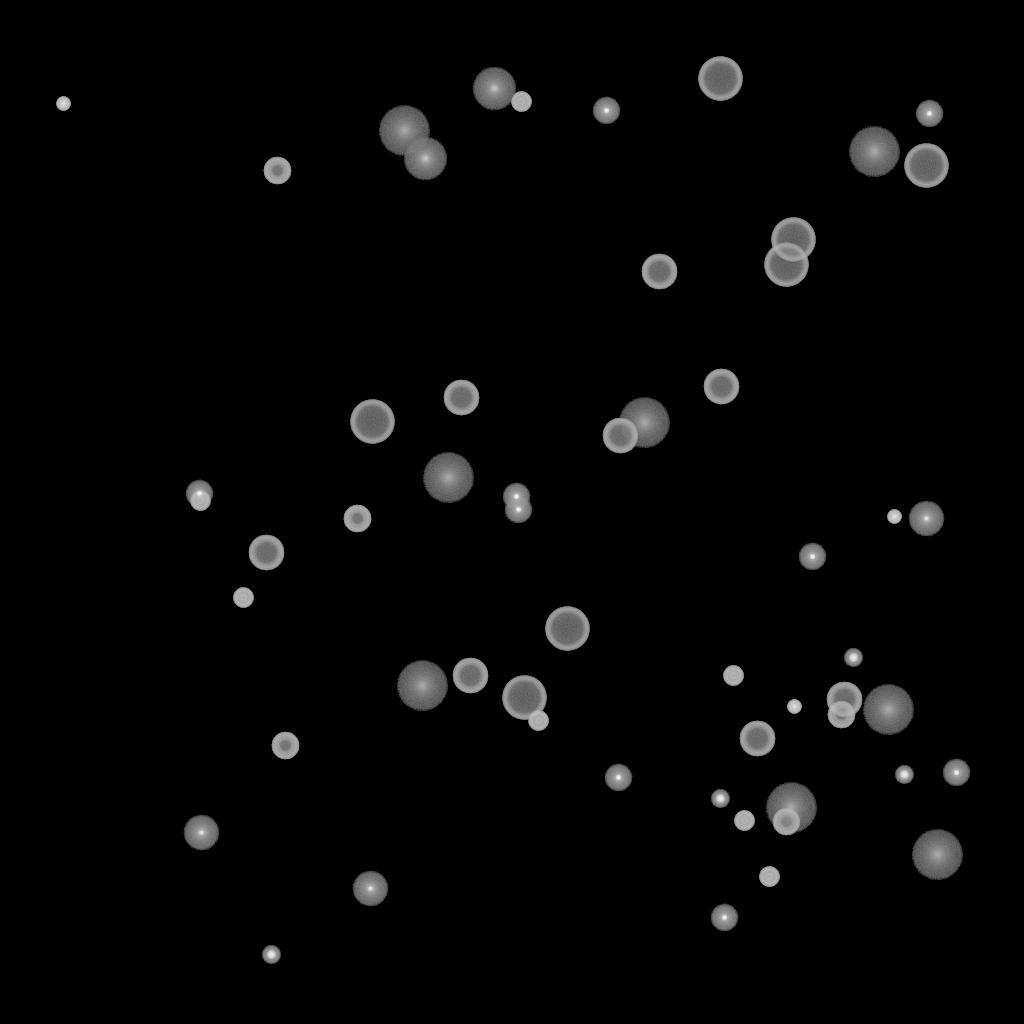depth:-10: (798, 543, 826, 571), (502, 483, 530, 511), (942, 759, 970, 787), (915, 100, 943, 128), (185, 480, 213, 508), (504, 496, 532, 524), (604, 764, 632, 792), (710, 904, 738, 932), (592, 97, 620, 125)
depth:-20: (895, 766, 913, 784), (711, 790, 729, 808), (262, 946, 280, 964), (844, 649, 862, 667)
depth:-30: (887, 510, 901, 524), (787, 700, 801, 714), (56, 97, 70, 111)
depth:-40: (190, 491, 210, 511), (759, 867, 779, 887), (511, 92, 531, 112), (734, 811, 754, 831), (723, 666, 743, 686), (233, 588, 253, 608), (528, 711, 548, 731)
depth:-50: (263, 157, 291, 185), (343, 505, 371, 533), (271, 732, 299, 760), (827, 701, 855, 729), (772, 808, 800, 836)
depth:-60: (452, 658, 488, 694), (641, 254, 677, 290), (703, 369, 739, 405), (826, 682, 862, 718), (443, 380, 479, 416), (602, 418, 638, 454), (248, 535, 284, 571), (739, 721, 775, 757)
depth:-70: (771, 218, 815, 262), (502, 676, 546, 720), (698, 57, 742, 101), (764, 243, 808, 287), (904, 144, 948, 188), (350, 400, 394, 444), (545, 607, 589, 651)
depth:0: (183, 815, 219, 851), (352, 871, 388, 907), (908, 501, 944, 537)
depth:10: (472, 67, 516, 111), (403, 137, 447, 181)
depth:20: (422, 453, 474, 503), (862, 685, 914, 735), (911, 830, 963, 880), (618, 398, 670, 448), (765, 783, 817, 833), (396, 661, 448, 711), (378, 106, 430, 156), (848, 127, 900, 177)
